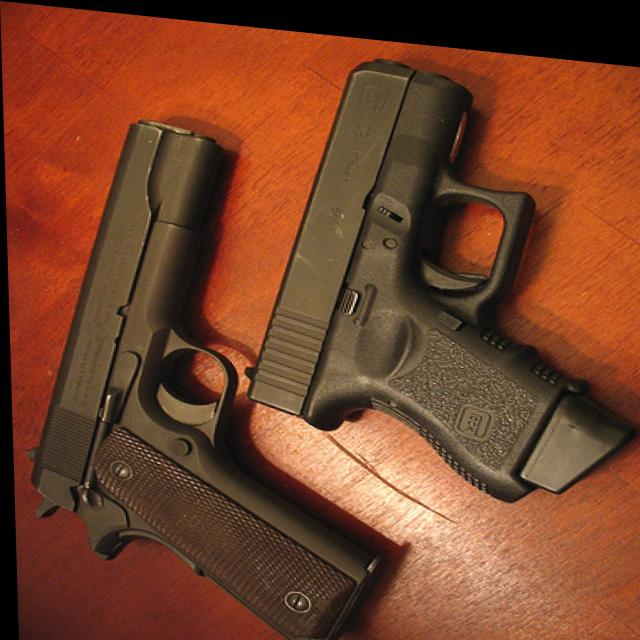handgun: (13, 99, 385, 640), (231, 34, 630, 509)
